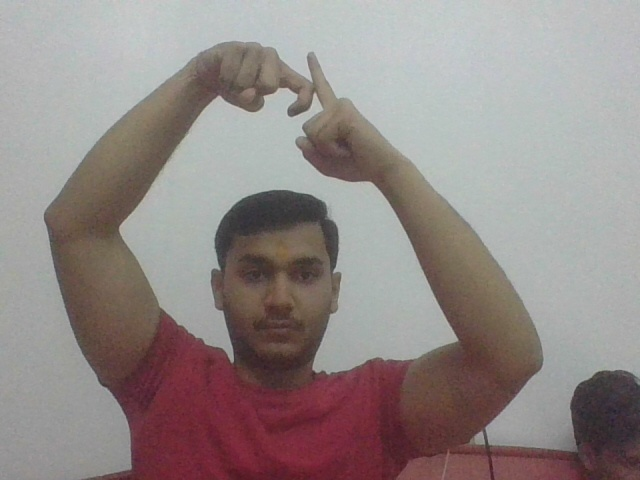K: (258, 40, 348, 127)
